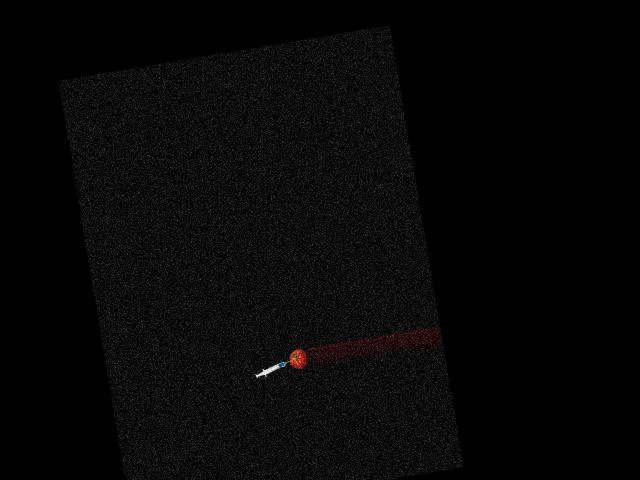tomato: (288, 348, 308, 370)
